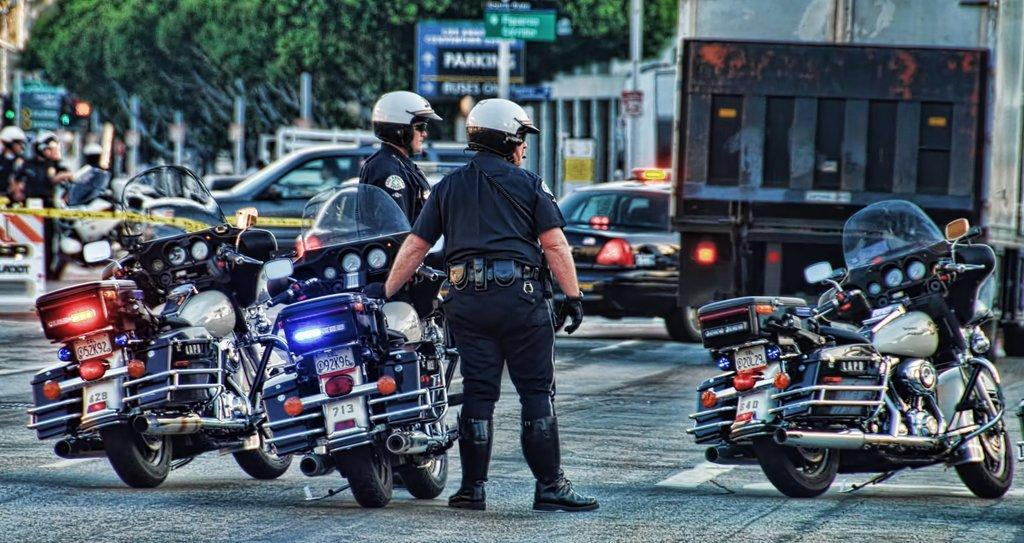helmet: (465, 98, 540, 159), (371, 90, 443, 148), (31, 131, 63, 166), (0, 126, 27, 153)
